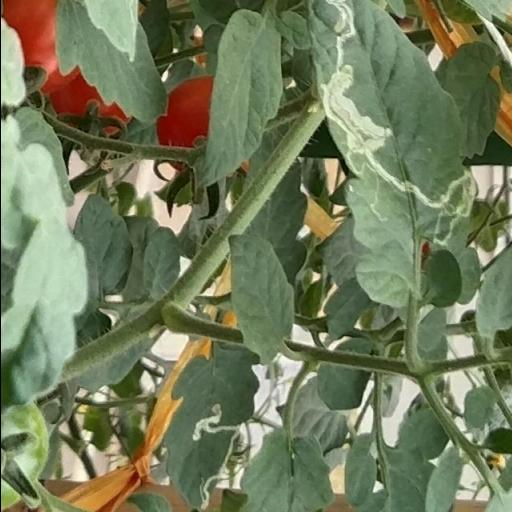Healthy: (194, 8, 284, 192), (226, 231, 298, 367)
Leaf Miner: (304, 0, 480, 309), (160, 344, 261, 512)
